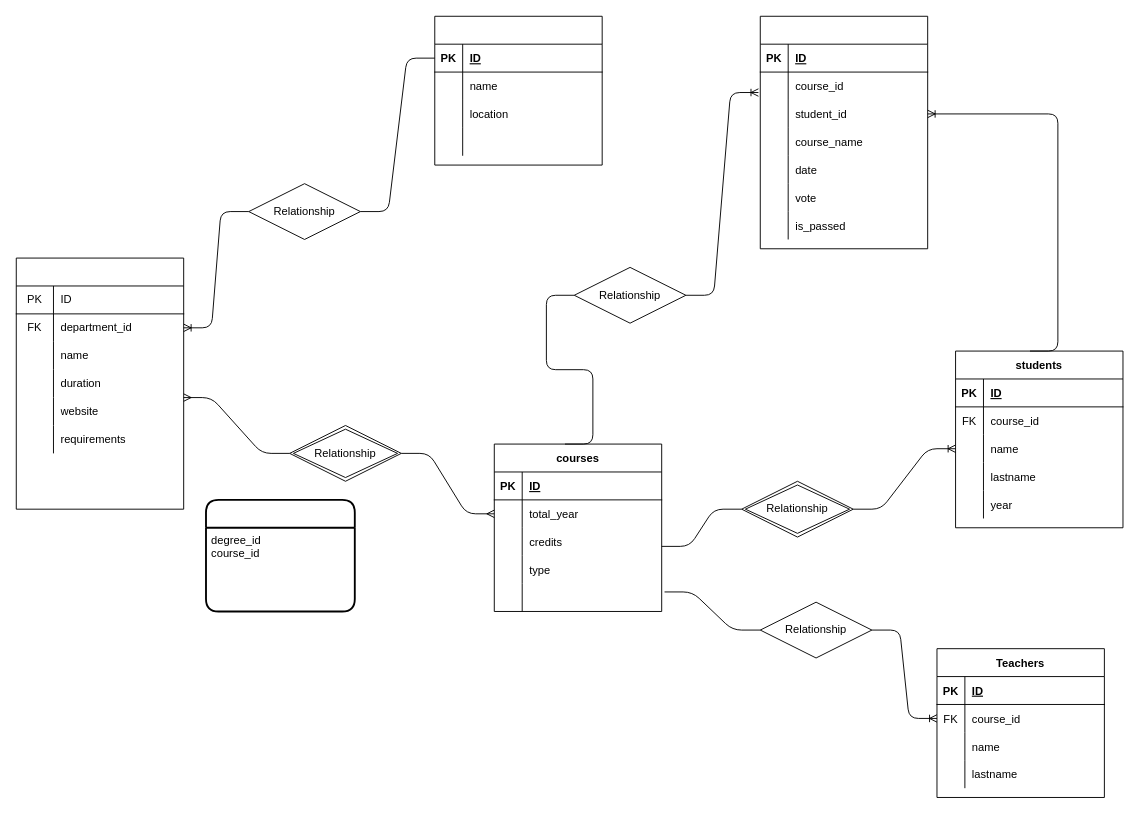
Some shapes in this 1139 by 814 pixel diagram are drawn without their labels. The box of each missing label's shape, as (x1, y1, x2, y2) in pixels:
degree_course: (205, 498, 355, 612)
degrees: (15, 257, 184, 509)
departments: (434, 15, 602, 165)
exam_sessions: (759, 15, 928, 249)
